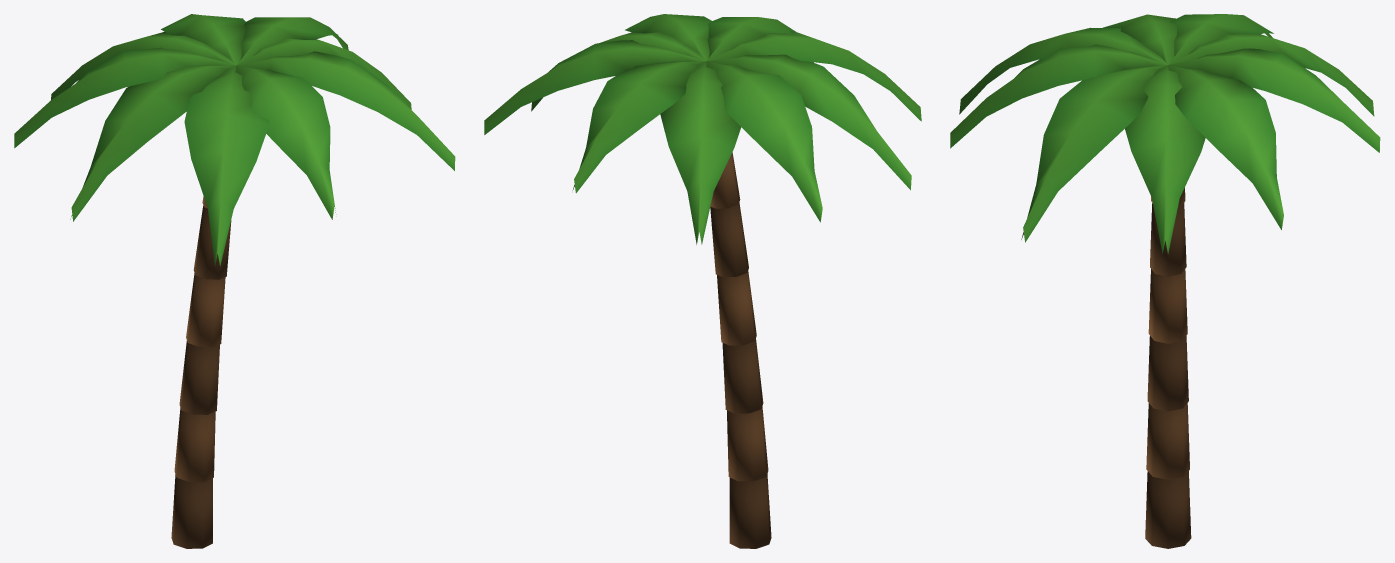
Rendered from palmier_c.glb.
3 renders of one model, left to right at view 1: azimuth 30°, elevation 25°; view 2: azimuth 150°, elevation 25°; view 3: azimuth 270°, elevation 25°, orthographic. The views are drawn at different scales.
Visible parts, largest first — view 1: Frunze, Corp; view 2: Frunze, Corp; view 3: Frunze, Corp.
Boxes of the visible parts, <box> form: Frunze: <box>14,14,455,266</box>; Corp: <box>171,196,231,548</box>; Frunze: <box>484,14,921,244</box>; Corp: <box>710,152,771,548</box>; Frunze: <box>950,14,1380,254</box>; Corp: <box>1145,187,1191,548</box>.
Size of the model in its own units: 3.26 by 4.16 by 3.18.
